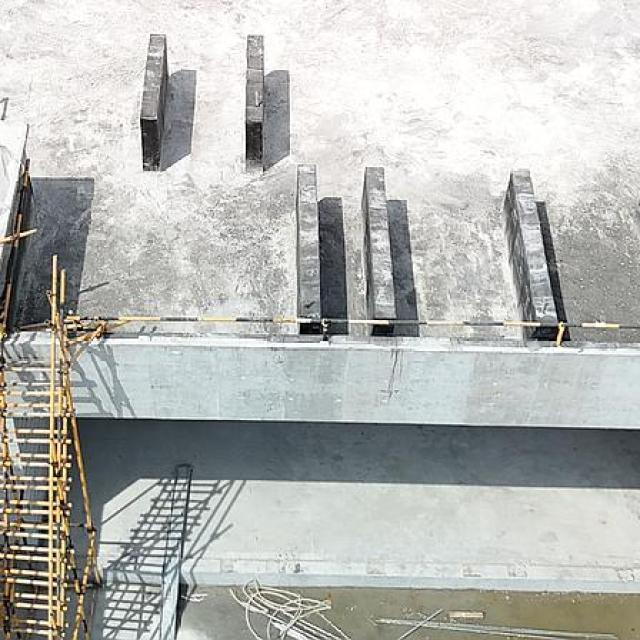edge_guardrail: (64, 315, 640, 346)
